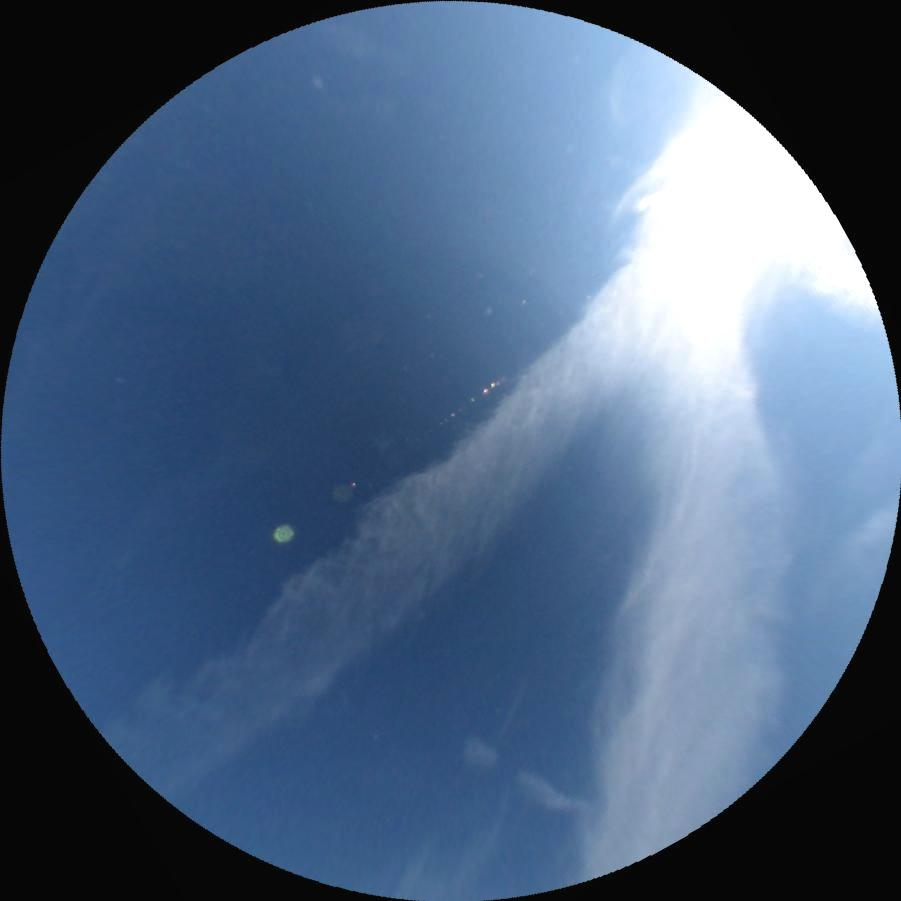contrail veryold: (101, 111, 830, 834)
unknow: (457, 734, 592, 829), (491, 680, 526, 745)
